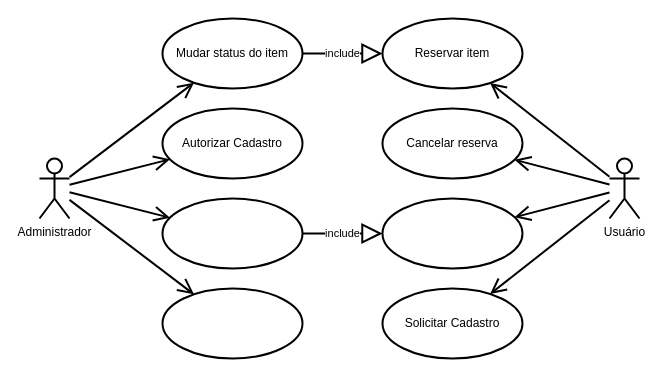
This 662x376 diagram has some shape labels left out. The shapes that lost their labels are listed below. From the top down, each one's centre as x and y in pixels, then its label:
At pixel 232 233: "Autorizar reserva".
At pixel 452 233: "Receber notificação de mudanças".
At pixel 232 323: "Manter lista prévia".
